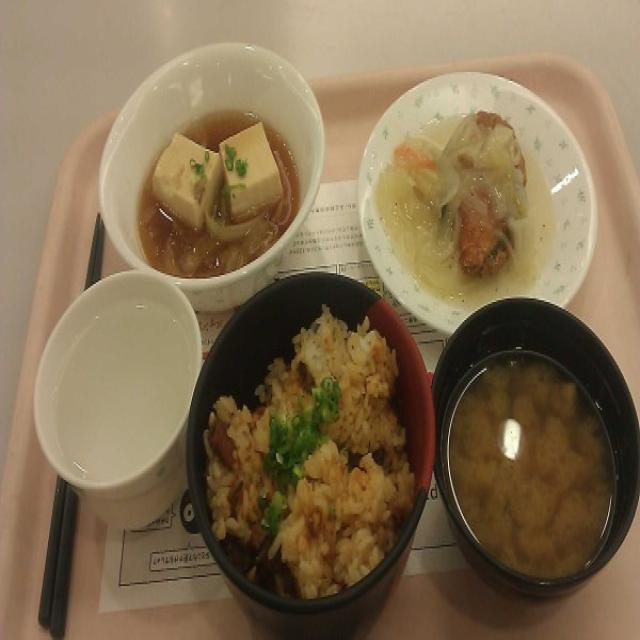汤锅炖物: (424, 294, 640, 607)
米饭主食: (187, 264, 437, 624)
